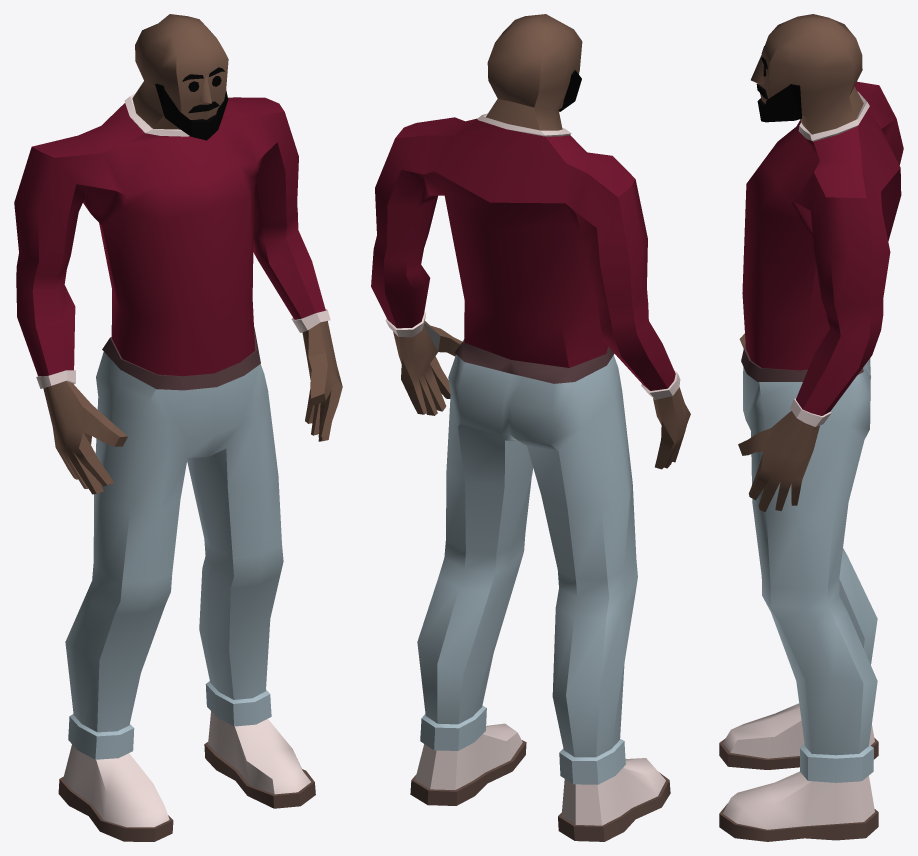
Rendered from character3.glb.
3 renders of one model, left to right at view 1: azimuth 30°, elevation 25°; view 2: azimuth 150°, elevation 25°; view 3: azimuth 270°, elevation 25°, orthographic.
Parts seen in each view (by area): view 1: lowPolyCharacterFace4; view 2: lowPolyCharacterFace4; view 3: lowPolyCharacterFace4.
Part boxes in pixels (x1,y1,x2,y2): lowPolyCharacterFace4: [14, 14, 342, 841]; lowPolyCharacterFace4: [371, 14, 690, 841]; lowPolyCharacterFace4: [719, 14, 903, 841].
Size of the model in its own units: 0.7101 by 1.84 by 0.3977.
